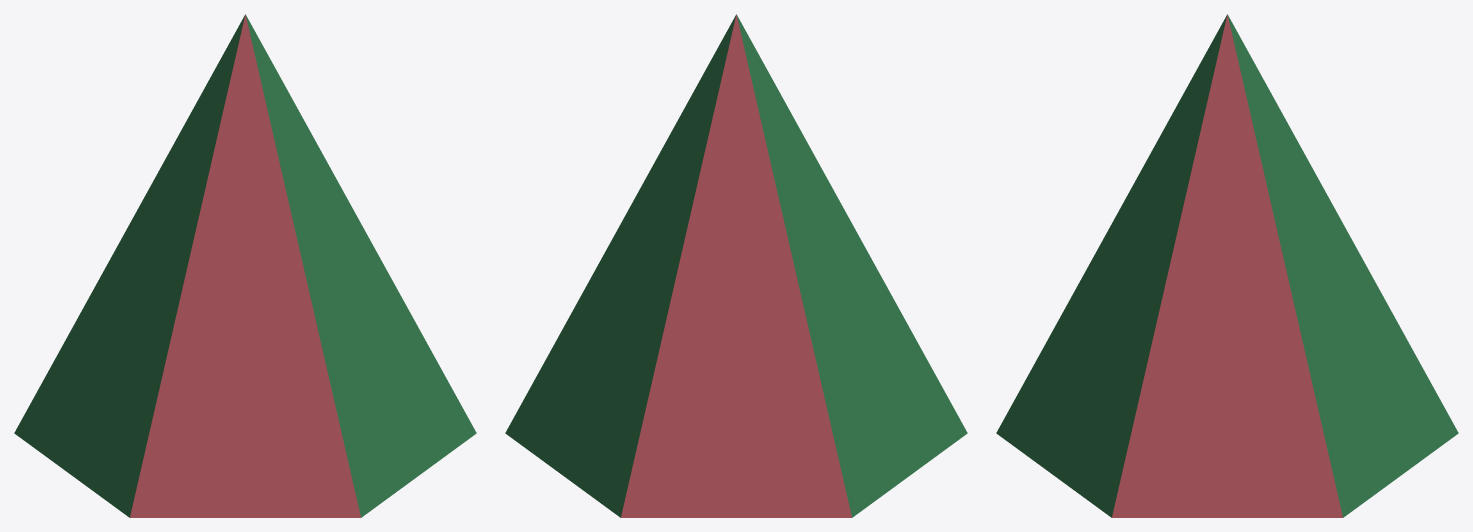
Rendered from partyhat.glb.
3 views of the same model, side by side, from view 1: azimuth 30°, elevation 25°; view 2: azimuth 150°, elevation 25°; view 3: azimuth 270°, elevation 25° (orthographic).
Visible parts, largest first — view 1: Cone; view 2: Cone; view 3: Cone.
Boxes of the visible parts, x1,y1,x2,y2 form: Cone: (14, 14, 476, 517); Cone: (505, 14, 967, 517); Cone: (996, 14, 1458, 517).
Bounding box in the file's own units: 1.73 × 2 × 2.
Materials: 1 (1 with a texture image).
